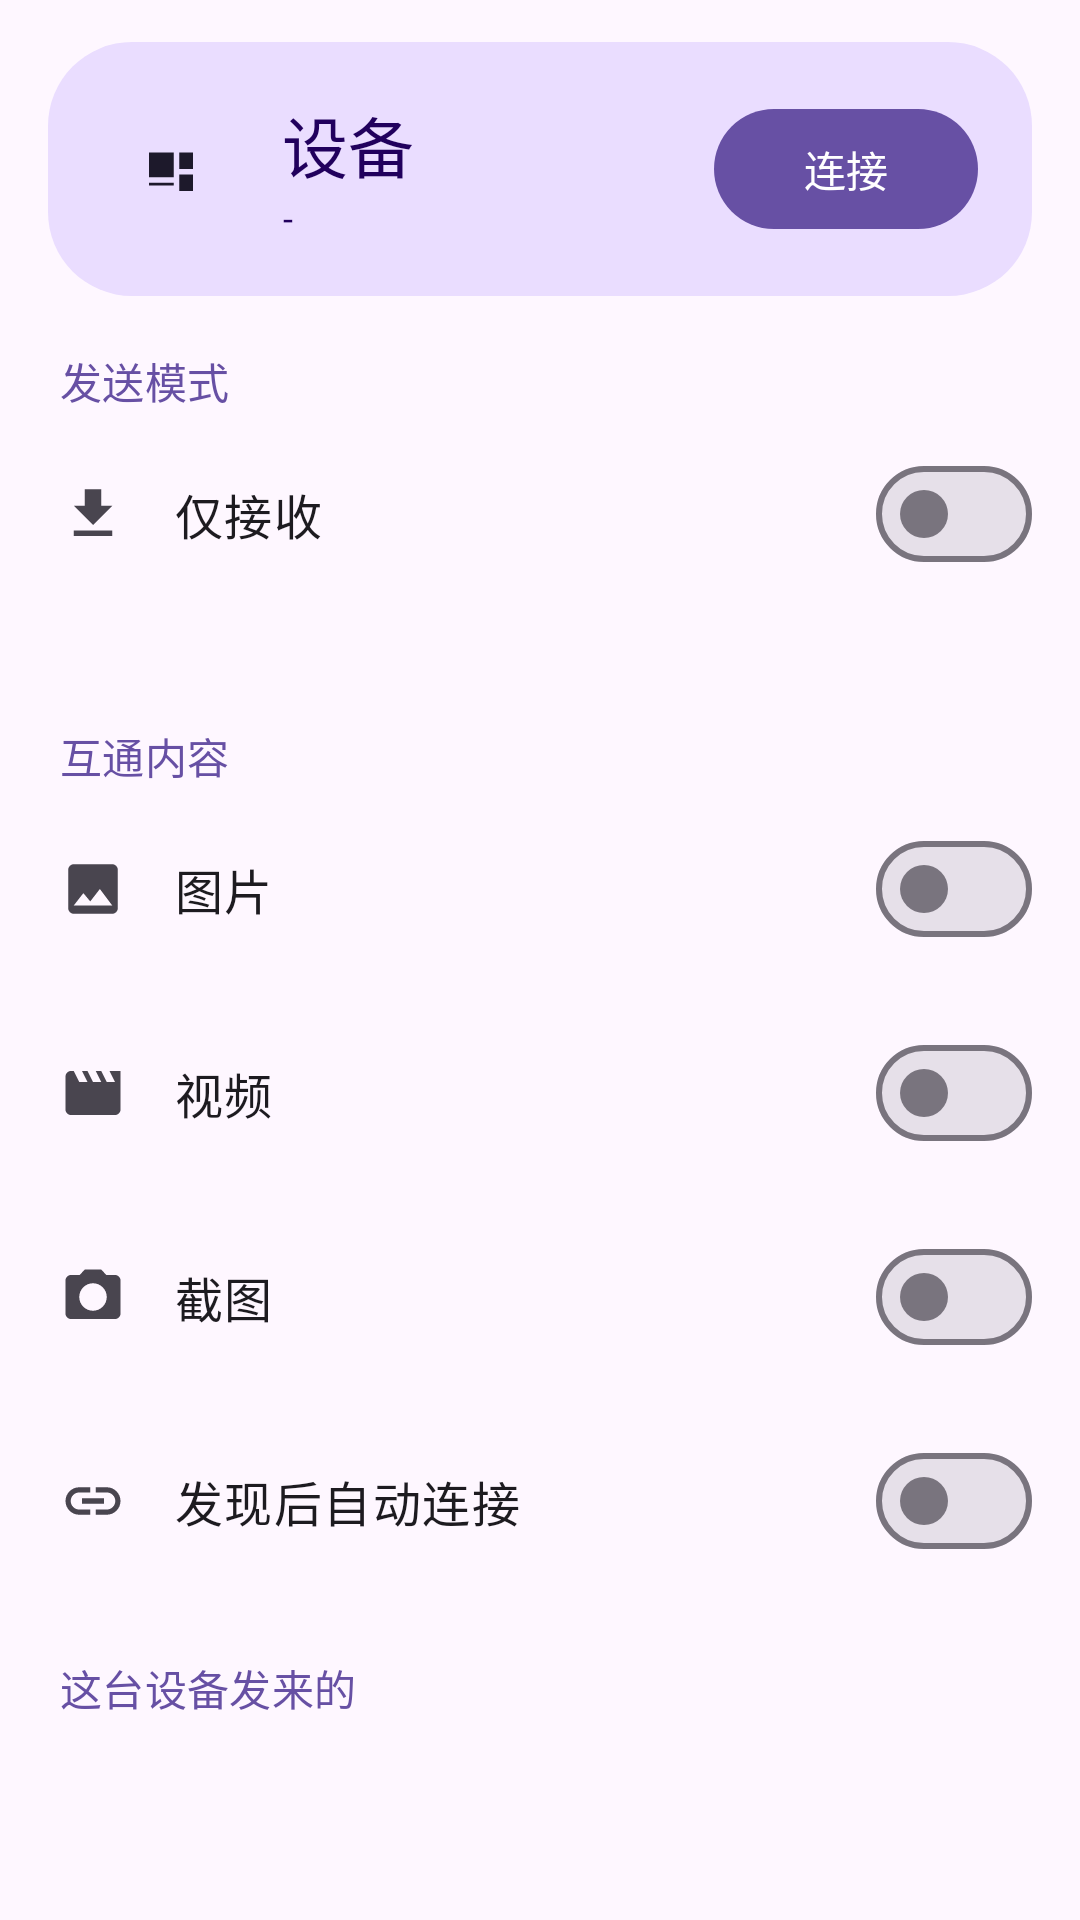

Icons on this 1080 x 1920 Android screen, each with its box as (x1, y1, x2, y2):
download: (73, 489, 113, 536)
link: (65, 1487, 121, 1515)
video: (65, 1071, 121, 1115)
